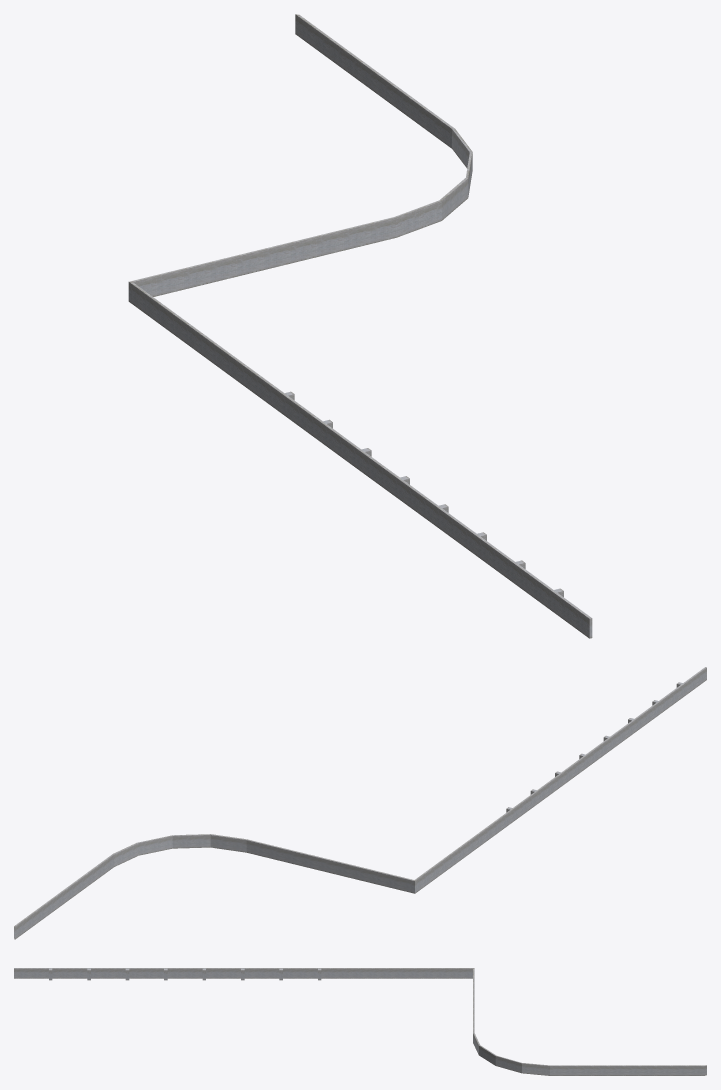
Rendered from vgs_concwall01.obj.
The picture shows the model from 3 angles, top to bottom: view 1: azimuth 30°, elevation 25°; view 2: azimuth 150°, elevation 25°; view 3: azimuth 270°, elevation 25°; orthographic projection. The views are drawn at different scales.
Parts seen in each view (by area): view 1: vgs_concwall01; view 2: vgs_concwall01; view 3: vgs_concwall01.
Part boxes in pixels (box(x1,y1,x2,y2)): vgs_concwall01: box(128, 14, 592, 638); vgs_concwall01: box(14, 667, 706, 939); vgs_concwall01: box(14, 968, 706, 1075).
Size of the model in its own units: 60.37 by 2.86 by 180.
1 material, 1 textured.
